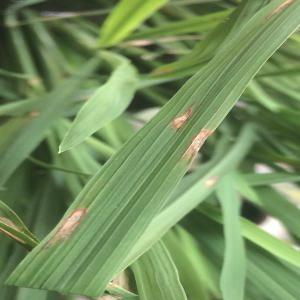1 RiceBlast: (18, 196, 104, 251), (176, 124, 221, 166), (150, 94, 201, 131)
